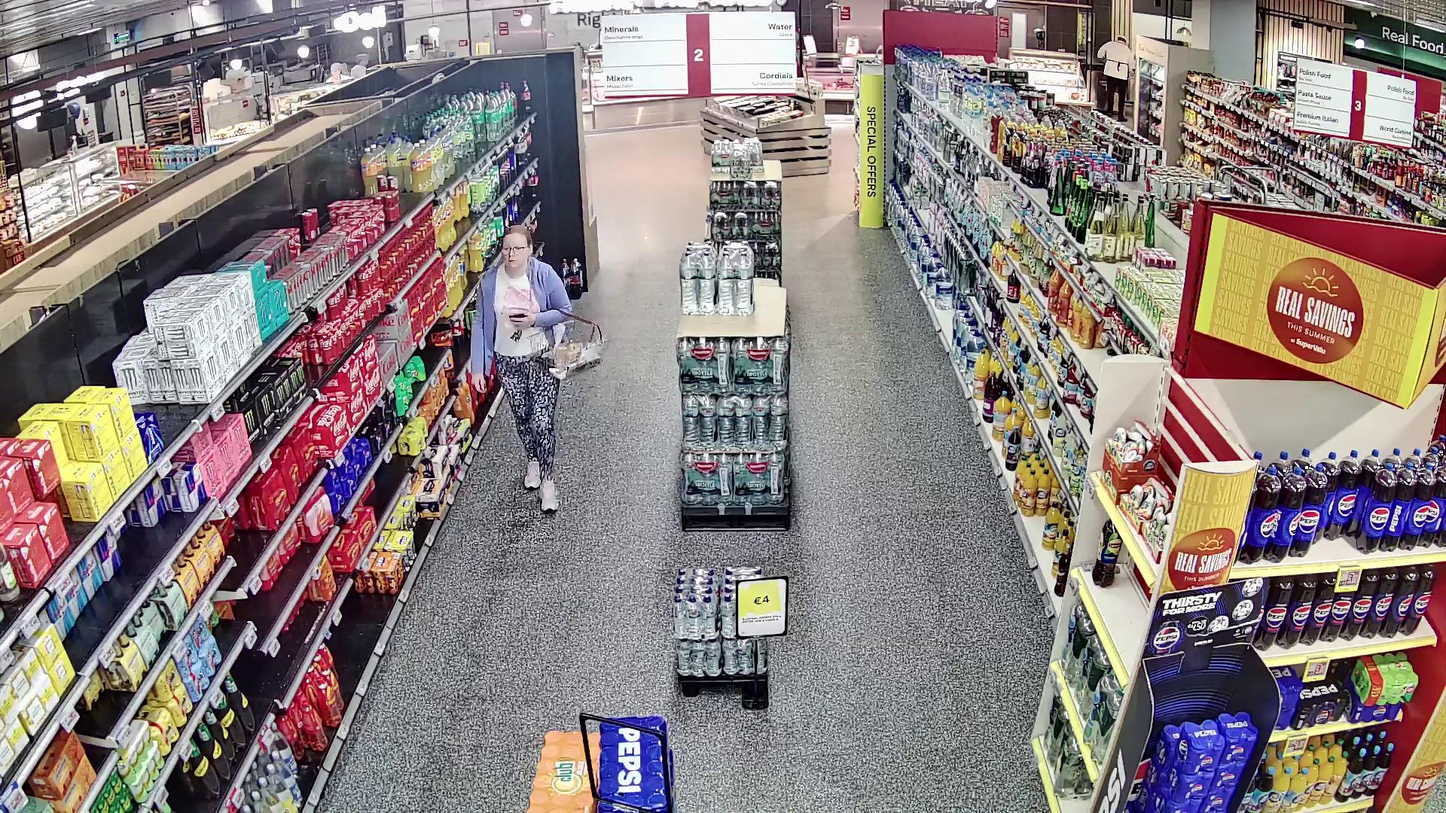filled-basket: (527, 314, 610, 381)
person: (469, 225, 573, 512)
person-with-filled-basket-trolly: (469, 224, 611, 513)
